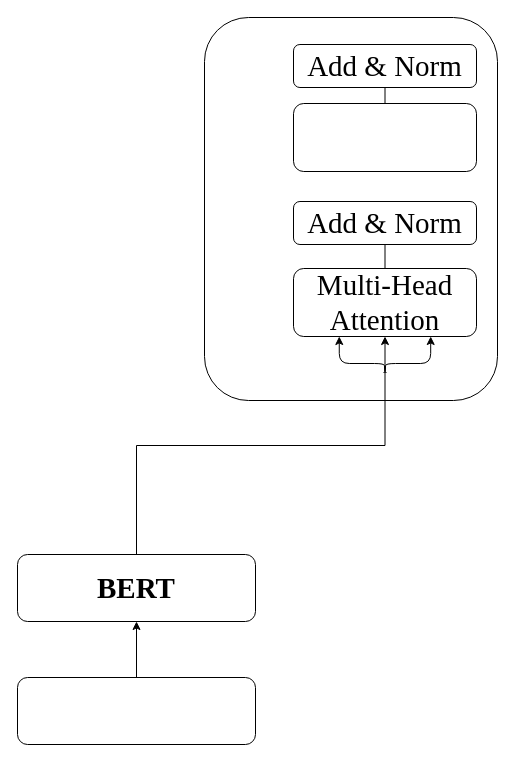
This 515x762 diagram has some shape labels left out. Each missing label, with the box of its shape:
Feed Forward: (292, 102, 476, 172)
Input Sentence: (16, 676, 256, 744)
